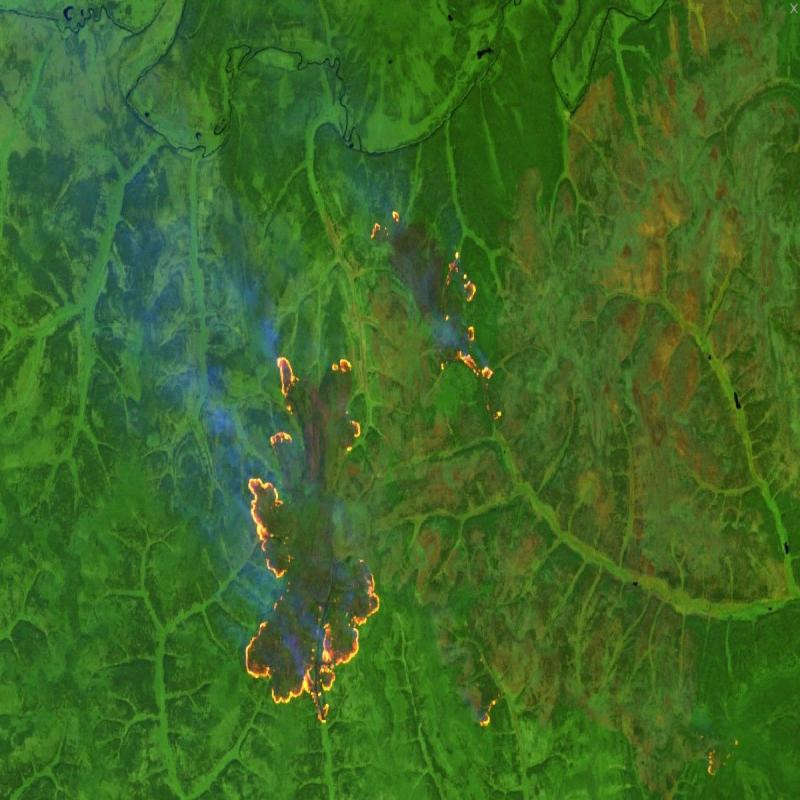fire: (238, 350, 385, 734), (433, 238, 497, 392), (364, 202, 408, 252), (469, 688, 502, 732)
